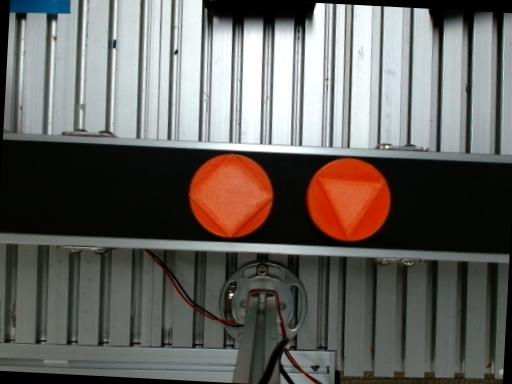Not_Square: (316, 176, 385, 240)
Orange_Waper: (306, 158, 390, 241), (188, 154, 272, 237)
Square: (189, 153, 273, 238)
